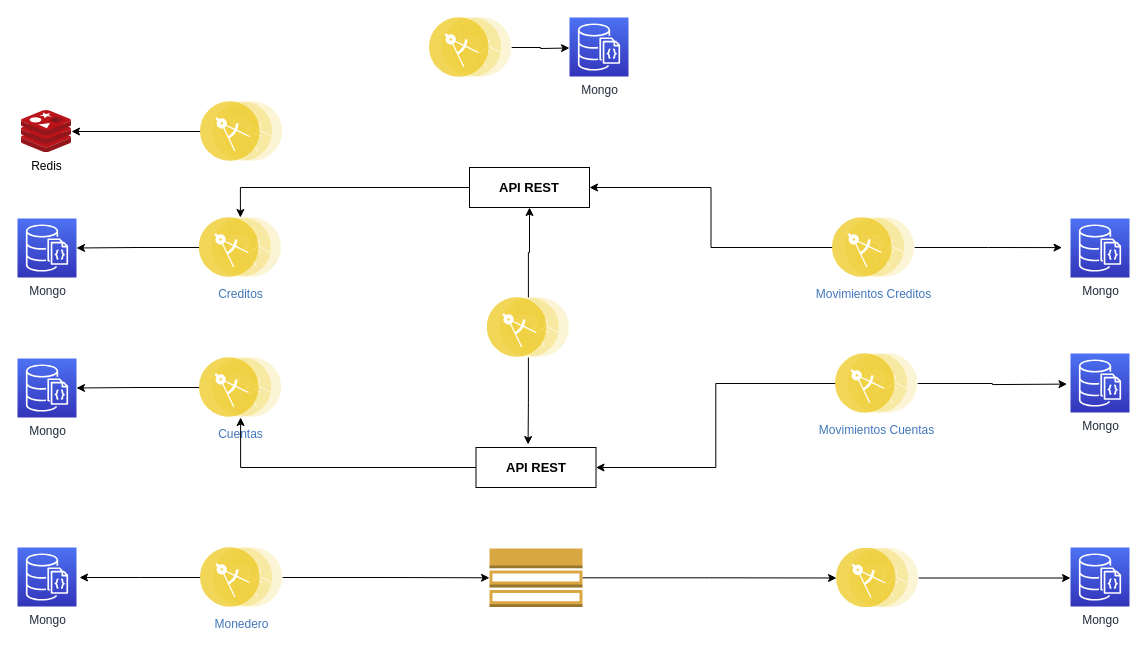
This 1147x649 diagram has some shape labels left out. The centre of each missing label's shape, as x and y in pixels:
Catalogos: the point at 241,131
Cliente: the point at 470,47
Movimientos Monedero: the point at 877,578
Reportes: the point at 528,327
Topico kafka Mondero: the point at 535,577
